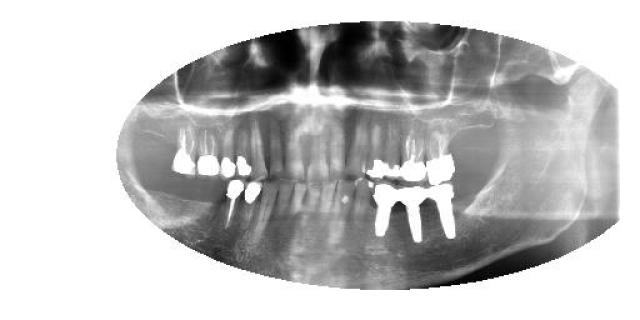Fillings: (368, 121, 388, 178), (234, 128, 254, 178), (220, 122, 235, 178), (388, 118, 400, 178), (244, 180, 261, 222)
Implant: (398, 184, 428, 245), (429, 184, 461, 241), (368, 181, 398, 240), (428, 128, 458, 184), (172, 110, 196, 178), (402, 128, 428, 182), (220, 179, 244, 235), (198, 115, 218, 177)
